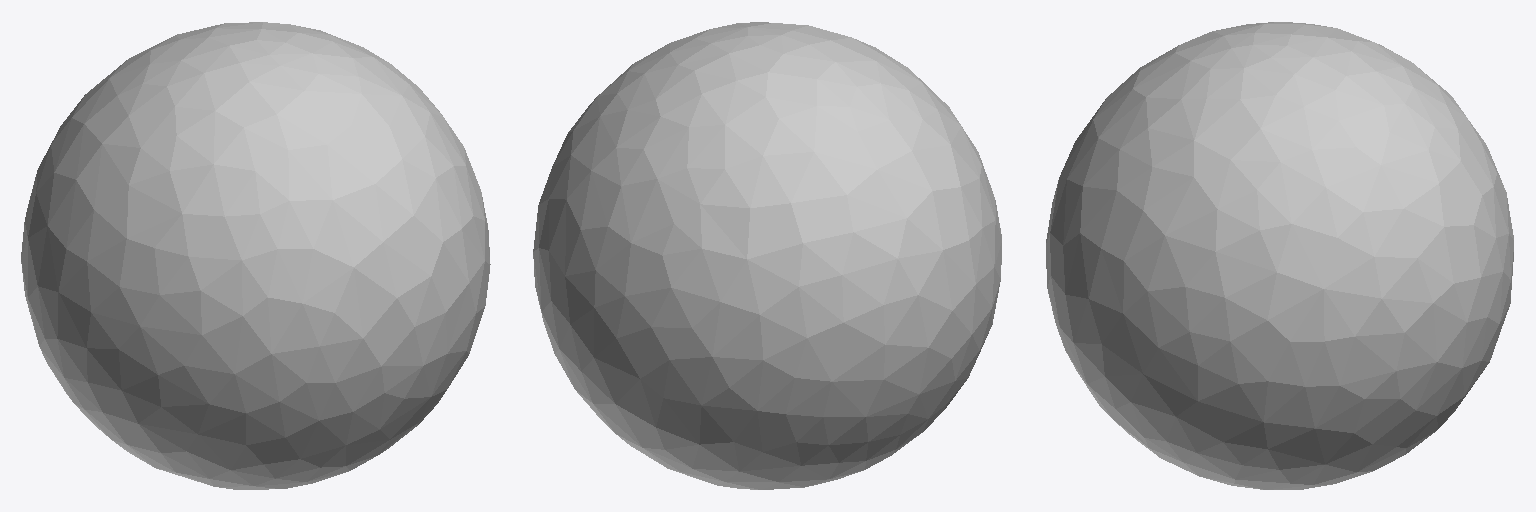
File: Earth.obj
3 views of the same model, side by side, from view 1: azimuth 30°, elevation 25°; view 2: azimuth 150°, elevation 25°; view 3: azimuth 270°, elevation 25° (orthographic).
Parts seen in each view (by area): view 1: Earth_Sphere.006; view 2: Earth_Sphere.006; view 3: Earth_Sphere.006.
Part boxes in pixels (x1,y1,x2,y2): Earth_Sphere.006: (21, 22, 490, 489); Earth_Sphere.006: (533, 22, 1001, 489); Earth_Sphere.006: (1046, 22, 1513, 489).
Bounding box in the file's own units: 19.99 × 20.01 × 20.02.